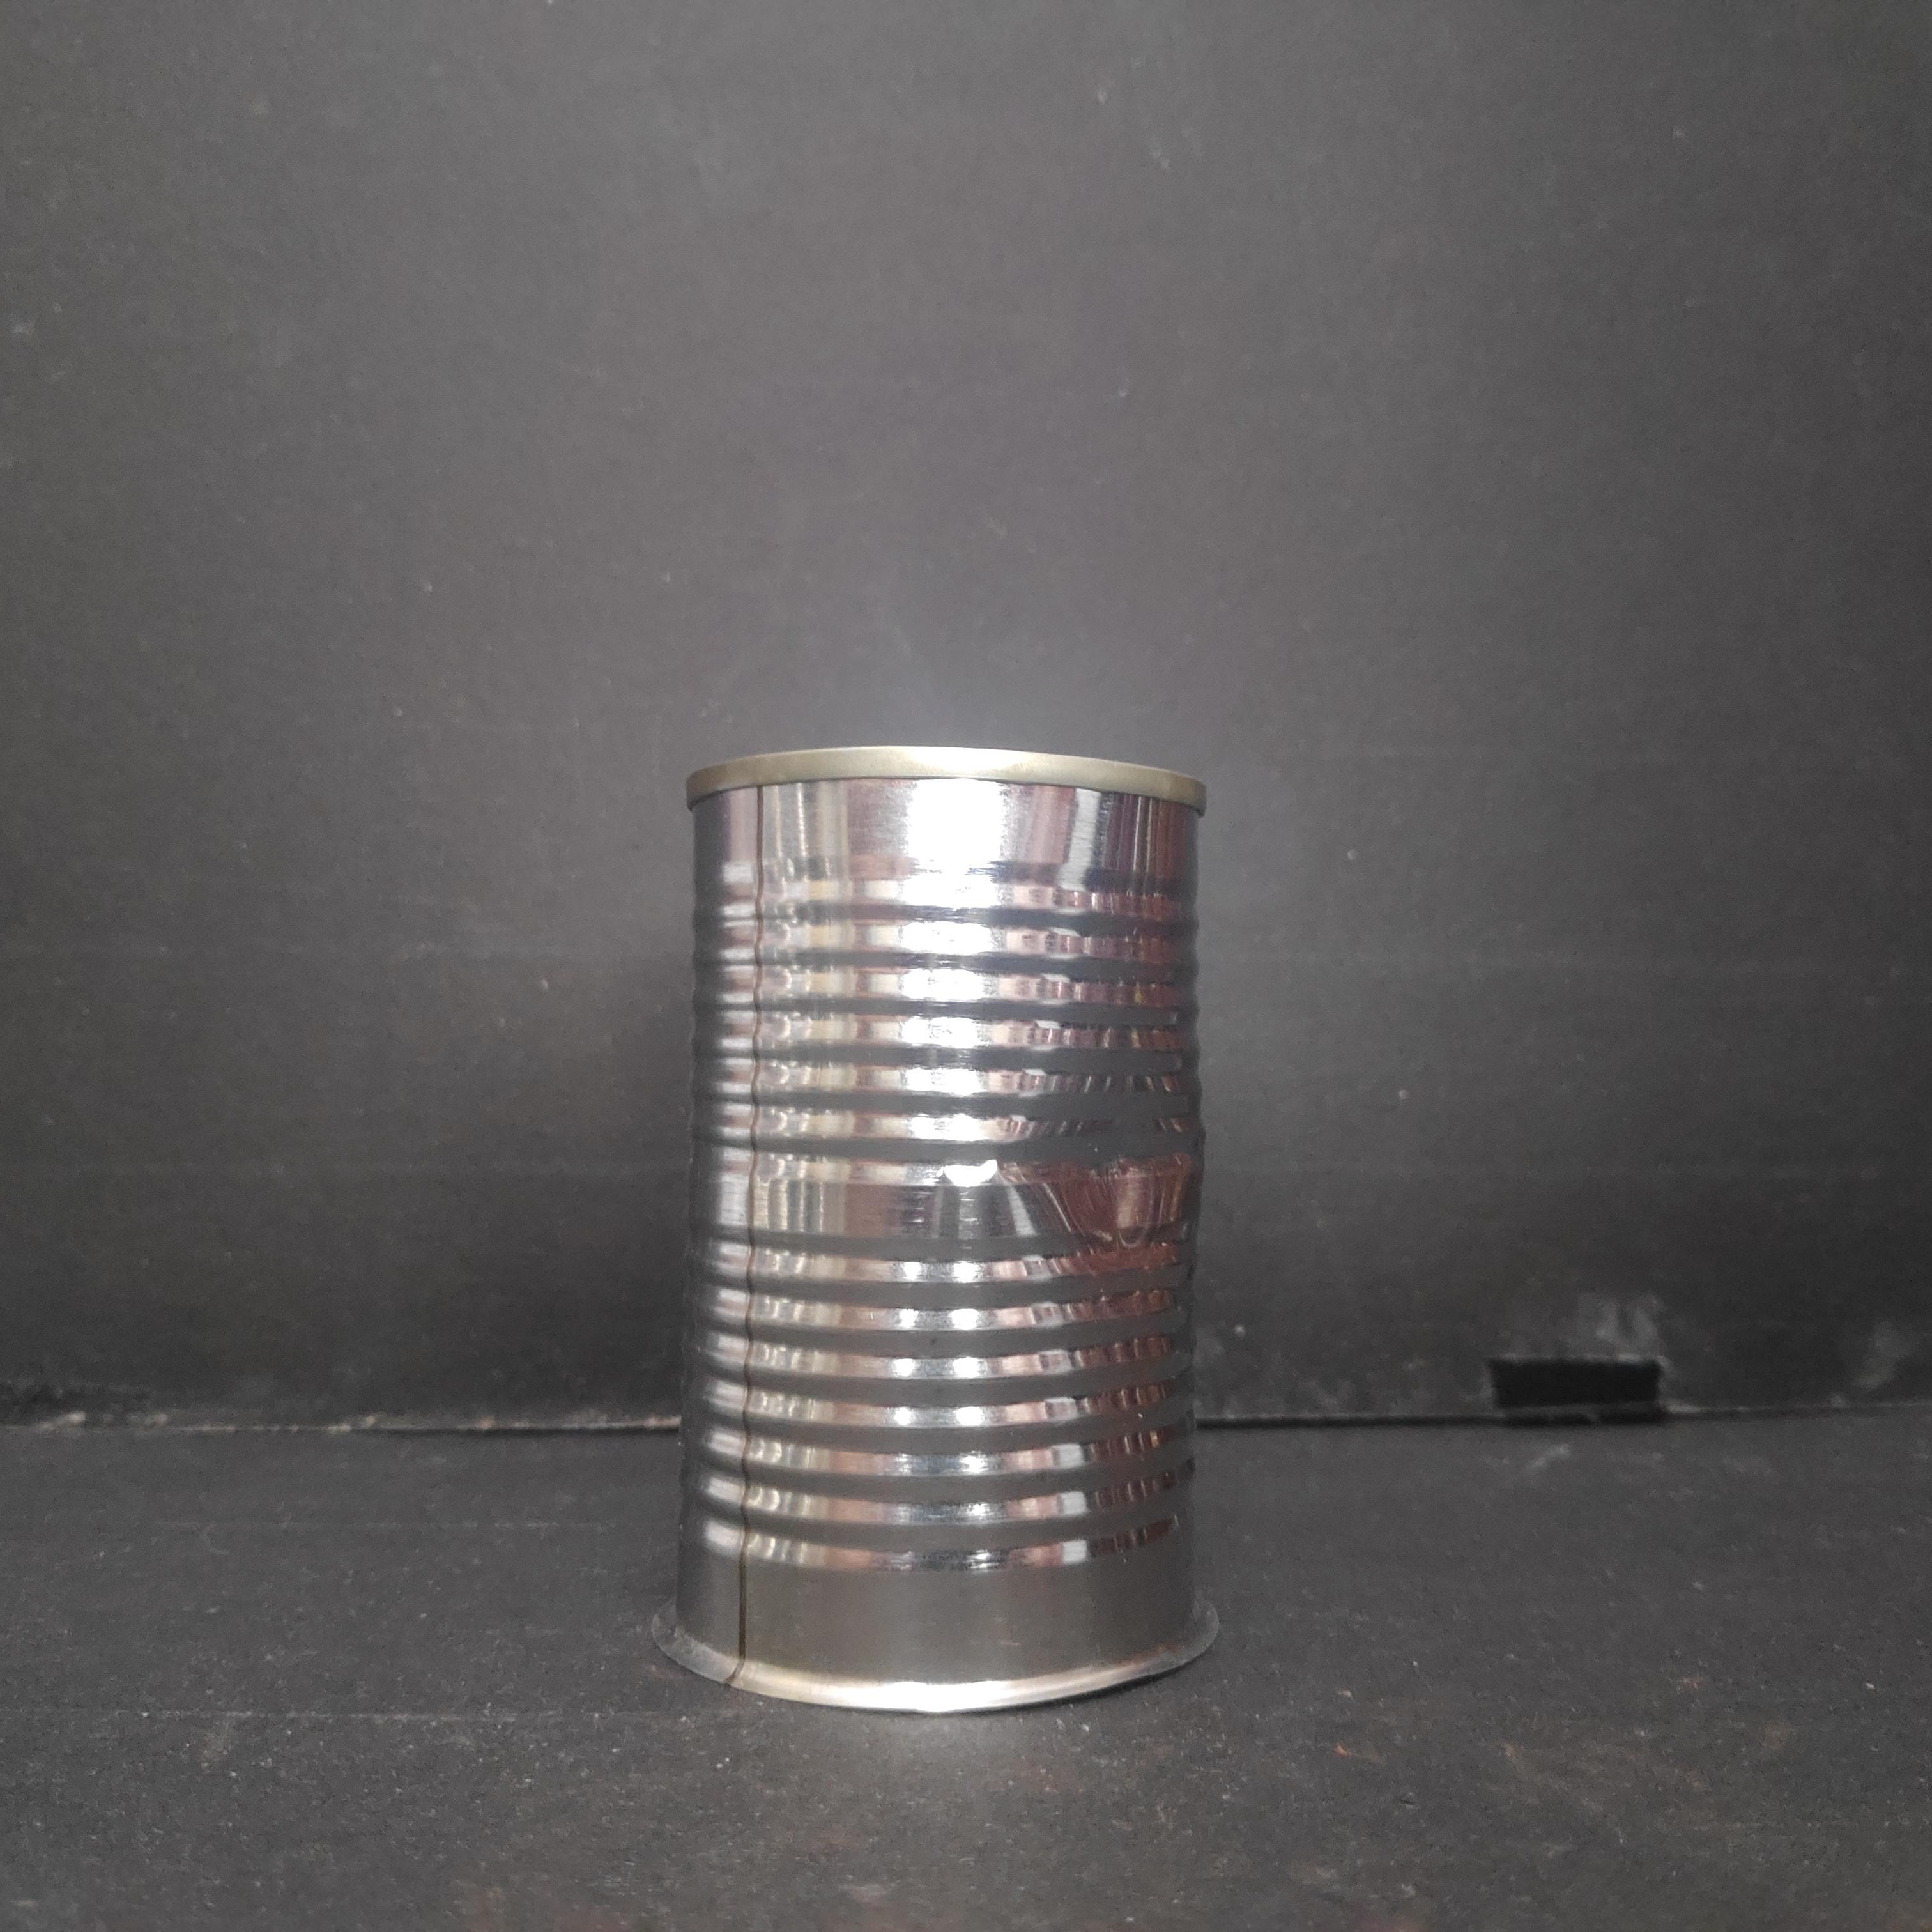Minor Defect: (665, 736, 1228, 1727)
